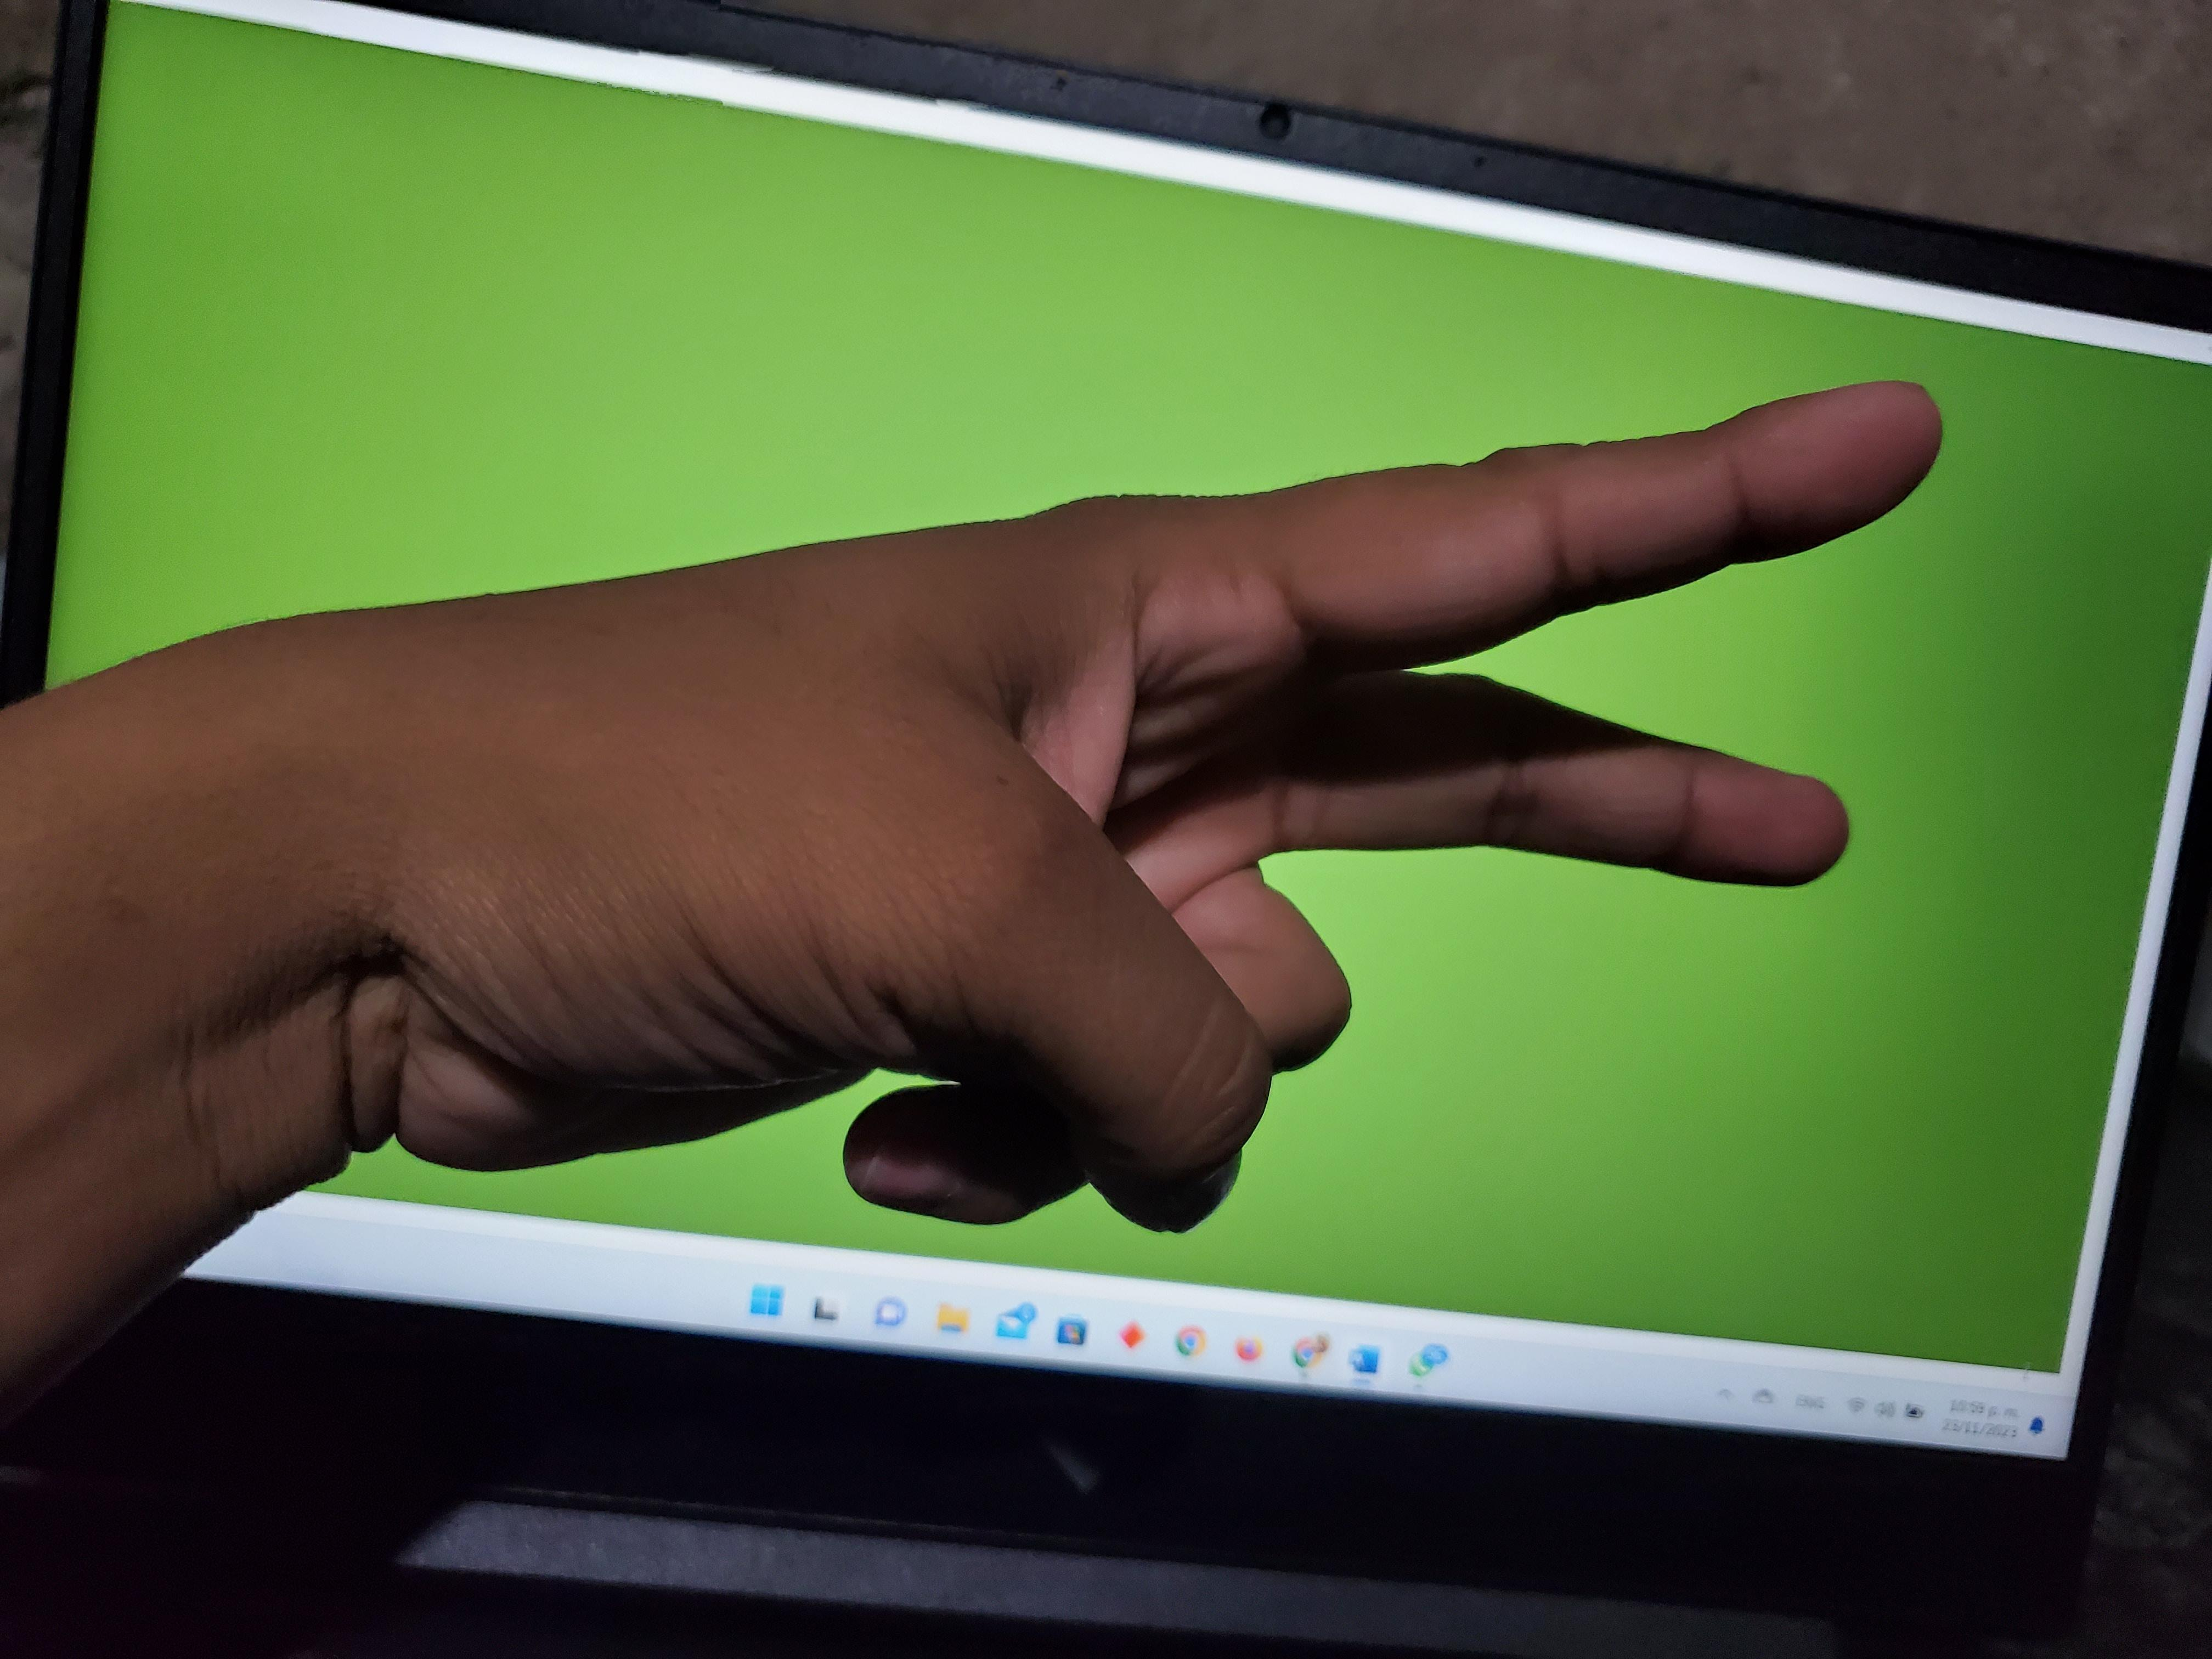Scissor: (66, 99, 2090, 1382)
